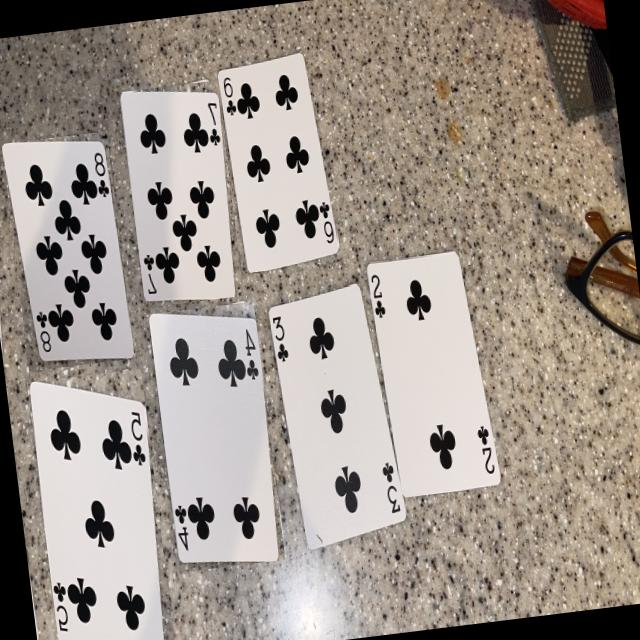2 of clubs: (367, 251, 499, 495)
3 of clubs: (268, 283, 405, 547)
4 of clubs: (149, 311, 278, 560)
5 of clubs: (30, 380, 164, 640)
6 of clubs: (218, 51, 338, 270)
7 of clubs: (121, 87, 235, 298)
8 of clubs: (2, 138, 133, 360)
